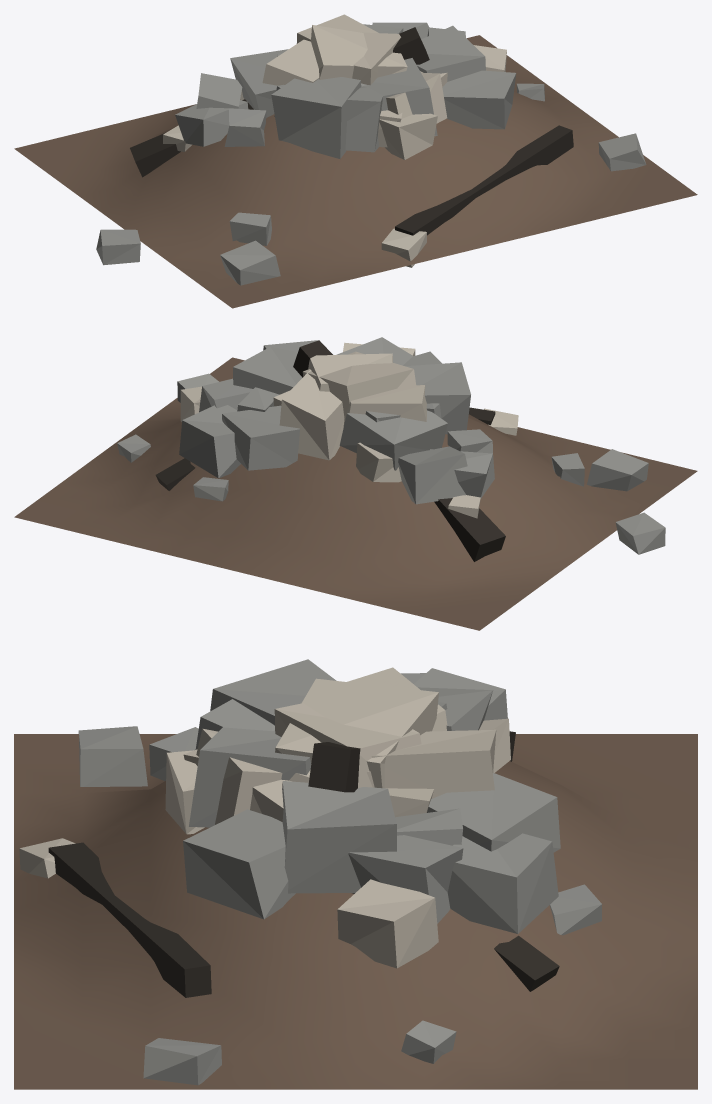
File: rubble.glb
3 views of the same model, one above another, from view 1: azimuth 30°, elevation 25°; view 2: azimuth 150°, elevation 25°; view 3: azimuth 270°, elevation 25° (orthographic). The views are drawn at different scales.
Parts seen in each view (by area): view 1: rubble; view 2: rubble; view 3: rubble.
Boxes of the visible parts, x1,y1,x2,y2 form: rubble: (14, 14, 697, 308); rubble: (14, 337, 697, 630); rubble: (14, 659, 697, 1089).
Size of the model in its own units: 3.54 by 0.9031 by 2.6.
